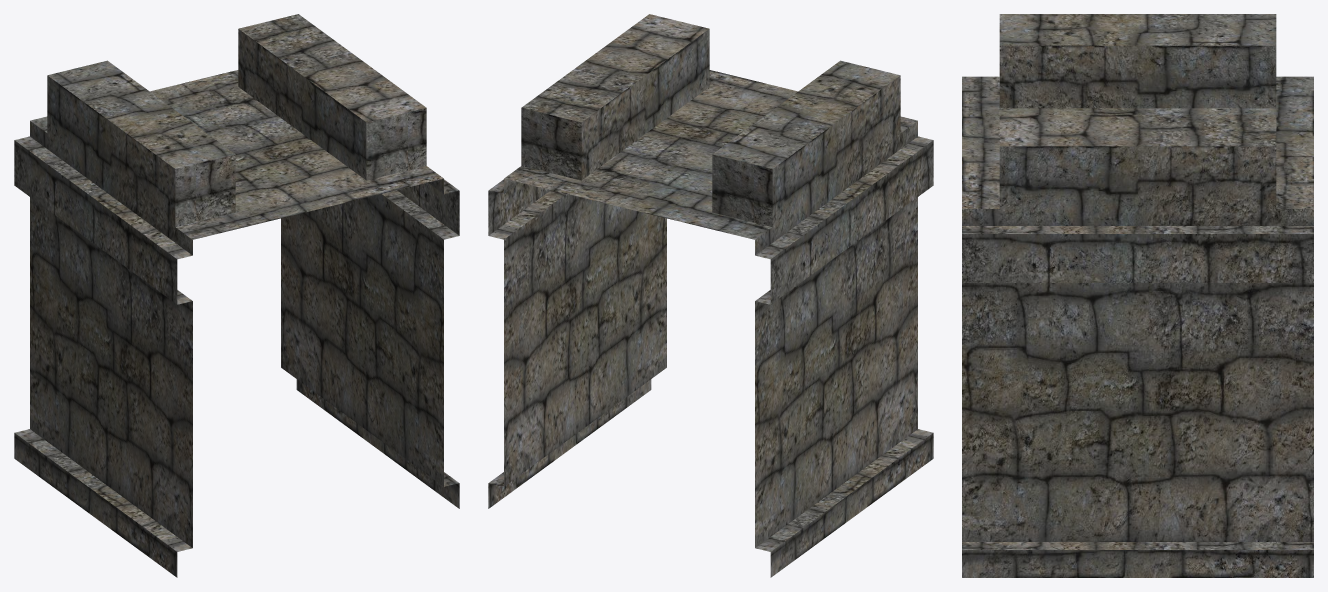
Rendered from Fort_00100010.gltf.
3 renders of one model, left to right at view 1: azimuth 30°, elevation 25°; view 2: azimuth 150°, elevation 25°; view 3: azimuth 270°, elevation 25°, orthographic. The views are drawn at different scales.
Visible parts, largest first — view 1: Claimed_00100010; view 2: Claimed_00100010; view 3: Claimed_00100010.
Boxes of the visible parts, x1=… form: Claimed_00100010: x1=14, y1=14, x2=459, y2=577; Claimed_00100010: x1=488, y1=14, x2=933, y2=577; Claimed_00100010: x1=962, y1=14, x2=1313, y2=577.
Bounding box in the file's own units: 2.5 × 3.32 × 2.5.
1 material, 1 textured.
